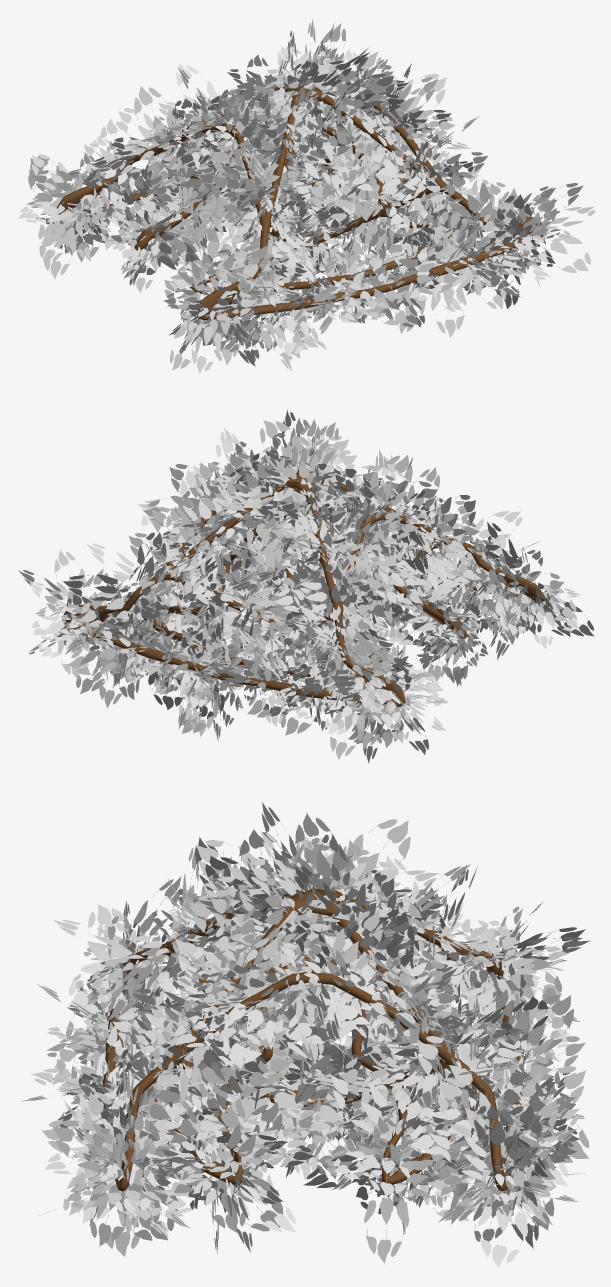
The model's file is Bush1.fbx.
The picture shows the model from 3 angles, top to bottom: view 1: azimuth 30°, elevation 25°; view 2: azimuth 150°, elevation 25°; view 3: azimuth 270°, elevation 25°; orthographic projection. The views are drawn at different scales.
Parts seen in each view (by area): view 1: Bush1, Bush1|LeafPlane|Dupli|492, Bush1|LeafPlane|Dupli|1889, Bush1|LeafPlane|Dupli|804, Bush1|LeafPlane|Dupli|1999, Bush1|LeafPlane|Dupli|607, Bush1|LeafPlane|Dupli|1671, Bush1|LeafPlane|Dupli|1673, Bush1|LeafPlane|Dupli|1817, Bush1|LeafPlane|Dupli|490, Bush1|LeafPlane|Dupli|1068, Bush1|LeafPlane|Dupli|499 (+19 smaller); view 2: Bush1, Bush1|LeafPlane|Dupli|1377, Bush1|LeafPlane|Dupli|1958, Bush1|LeafPlane|Dupli|624, Bush1|LeafPlane|Dupli|828, Bush1|LeafPlane|Dupli|735, Bush1|LeafPlane|Dupli|605, Bush1|LeafPlane|Dupli|349, Bush1|LeafPlane|Dupli|1198, Bush1|LeafPlane|Dupli|1906, Bush1|LeafPlane|Dupli|1925, Bush1|LeafPlane|Dupli|1336 (+8 smaller); view 3: Bush1, Bush1|LeafPlane|Dupli|1446, Bush1|LeafPlane|Dupli|1916, Bush1|LeafPlane|Dupli|325, Bush1|LeafPlane|Dupli|1018, Bush1|LeafPlane|Dupli|1516, Bush1|LeafPlane|Dupli|1707, Bush1|LeafPlane|Dupli|180, Bush1|LeafPlane|Dupli|196, Bush1|LeafPlane|Dupli|445, Bush1|LeafPlane|Dupli|1472, Bush1|LeafPlane|Dupli|1730 (+44 smaller).
Boxes of the visible parts, x1,y1,x2,y2 form: Bush1: (57,83,544,319); Bush1|LeafPlane|Dupli|492: (221,244,268,289); Bush1|LeafPlane|Dupli|1889: (447,172,489,216); Bush1|LeafPlane|Dupli|804: (171,236,212,284); Bush1|LeafPlane|Dupli|1999: (145,168,202,202); Bush1|LeafPlane|Dupli|607: (431,283,466,338); Bush1|LeafPlane|Dupli|1671: (211,172,258,213); Bush1|LeafPlane|Dupli|1673: (543,234,590,272); Bush1|LeafPlane|Dupli|1817: (310,181,356,220); Bush1|LeafPlane|Dupli|490: (344,222,386,270); Bush1|LeafPlane|Dupli|1068: (134,85,176,140); Bush1|LeafPlane|Dupli|499: (346,154,400,191); Bush1: (62,469,545,706); Bush1|LeafPlane|Dupli|1377: (368,455,412,505); Bush1|LeafPlane|Dupli|1958: (273,582,327,612); Bush1|LeafPlane|Dupli|624: (180,469,222,521); Bush1|LeafPlane|Dupli|828: (67,638,117,675); Bush1|LeafPlane|Dupli|735: (79,591,129,626); Bush1|LeafPlane|Dupli|605: (247,521,283,569); Bush1|LeafPlane|Dupli|349: (227,453,267,492); Bush1|LeafPlane|Dupli|1198: (62,574,122,600); Bush1|LeafPlane|Dupli|1906: (285,433,318,479); Bush1|LeafPlane|Dupli|1925: (196,462,236,510); Bush1|LeafPlane|Dupli|1336: (330,711,365,759); Bush1: (102,886,521,1191); Bush1|LeafPlane|Dupli|1446: (223,1001,275,1065); Bush1|LeafPlane|Dupli|1916: (272,1077,345,1130); Bush1|LeafPlane|Dupli|325: (364,1194,409,1264); Bush1|LeafPlane|Dupli|1018: (478,1204,527,1267); Bush1|LeafPlane|Dupli|1516: (416,1036,480,1096); Bush1|LeafPlane|Dupli|1707: (295,812,344,879); Bush1|LeafPlane|Dupli|180: (350,819,410,886); Bush1|LeafPlane|Dupli|196: (514,994,573,1053); Bush1|LeafPlane|Dupli|445: (177,1066,245,1131); Bush1|LeafPlane|Dupli|1472: (149,1089,198,1143); Bush1|LeafPlane|Dupli|1730: (52,1120,113,1170).
Bounding box in the file's own units: 173 × 102 × 144.
